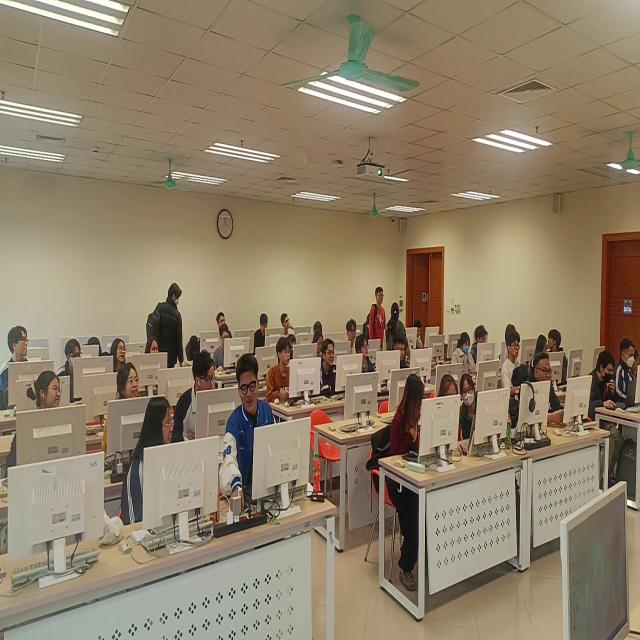raise_head: (527, 358, 583, 433), (105, 366, 148, 456), (268, 339, 308, 406), (318, 340, 353, 399), (355, 335, 385, 381), (503, 335, 525, 379), (110, 338, 131, 377), (146, 336, 164, 372), (281, 312, 299, 340), (346, 320, 359, 351), (212, 313, 233, 329)
stand: (143, 281, 185, 375), (367, 286, 389, 350), (388, 301, 407, 364)
using_computer: (226, 358, 281, 507), (585, 351, 634, 438), (435, 375, 477, 458), (59, 342, 96, 393), (212, 326, 247, 376), (461, 376, 491, 426), (453, 335, 486, 380), (395, 337, 426, 382), (616, 341, 640, 399), (473, 326, 499, 367), (413, 321, 436, 357), (534, 336, 557, 372), (315, 334, 330, 358)
